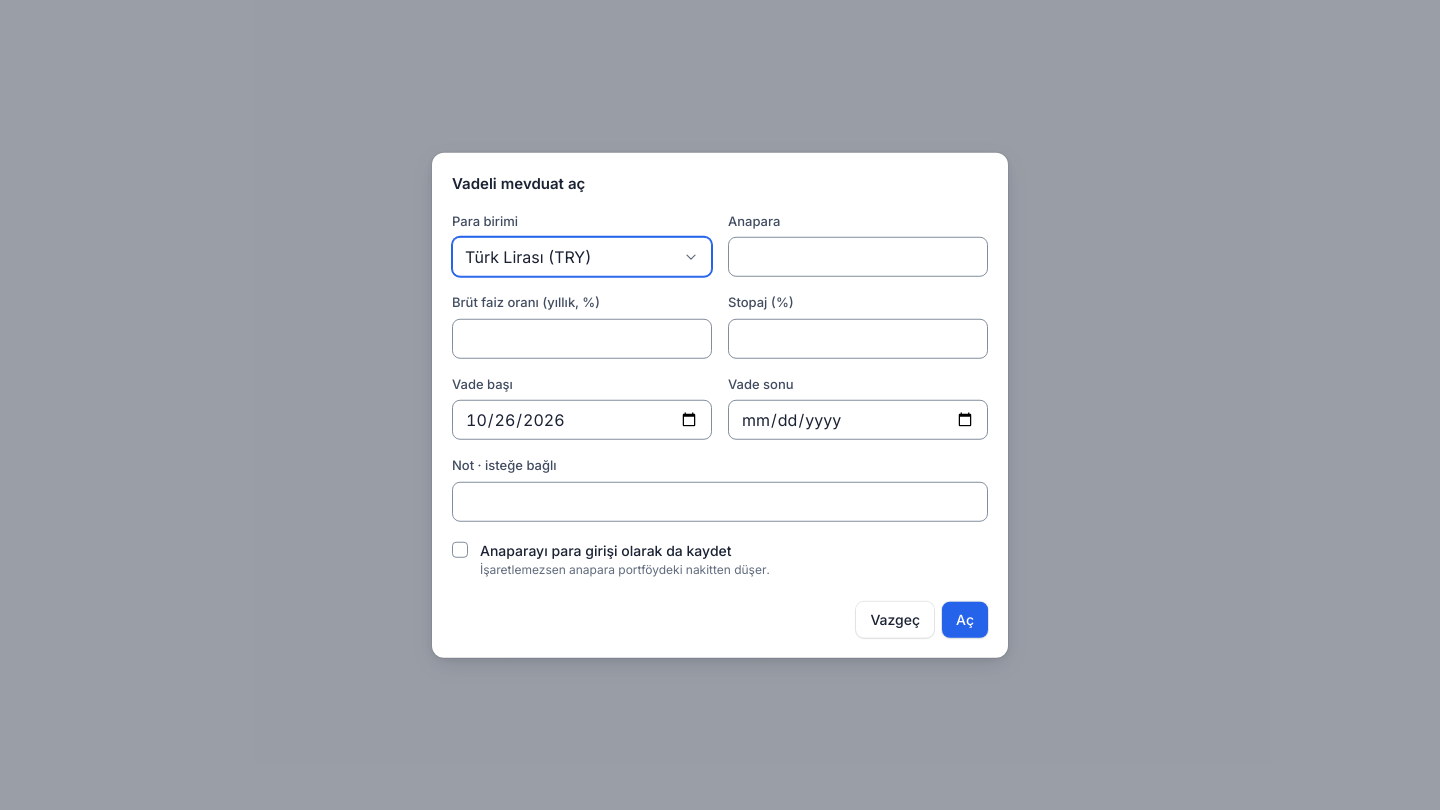
Test case: leaves the stopaj empty and refuses a form without it
This screenshot has width=1440, height=810.
Expected: the field labelled "Stopaj (%)" is empty, 728,318 -> 988,358
Type "100000" into the field labelled "Anapara".
click(858, 257); type("100000")  # box 728,237 -> 988,277
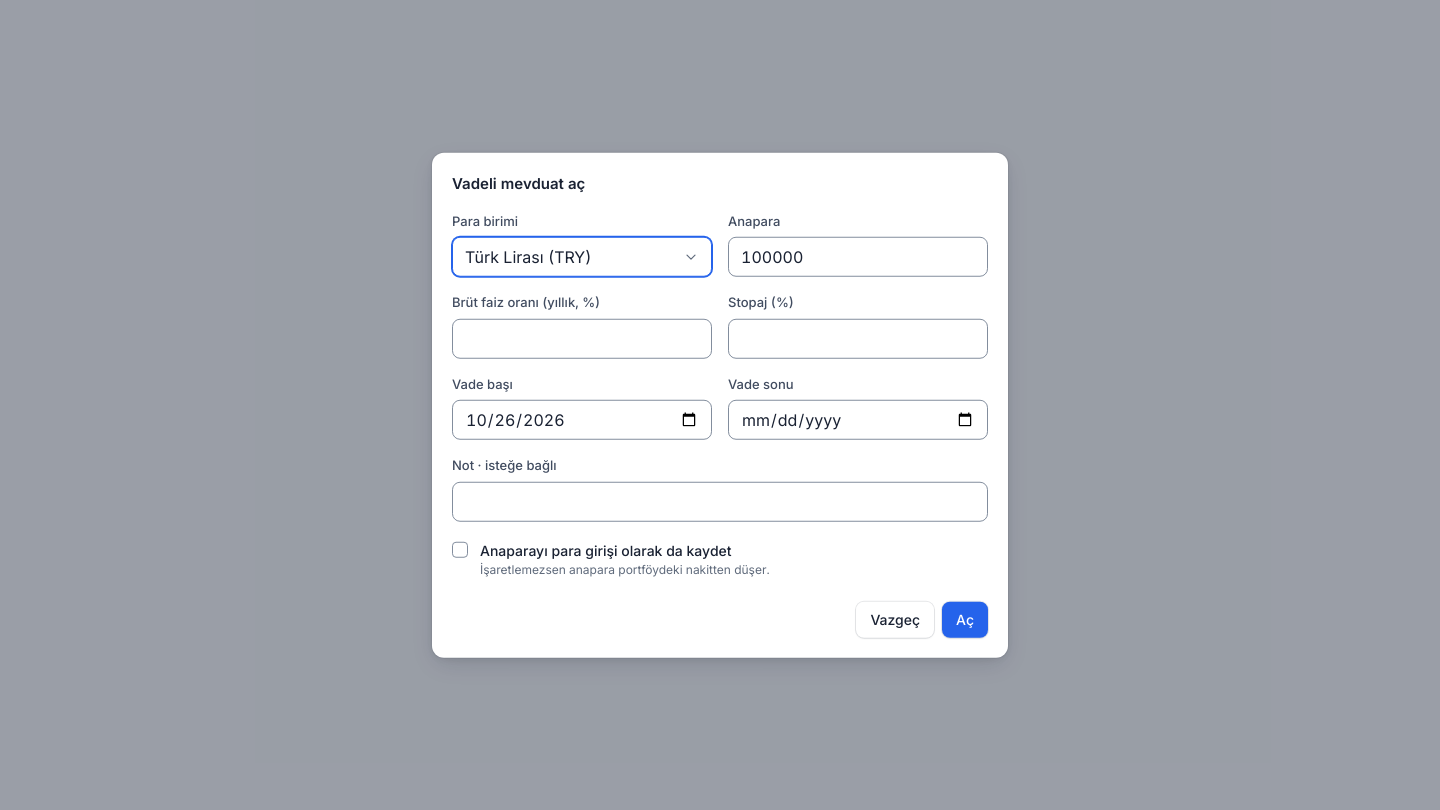
Type "45" into the field labelled "Brüt faiz oranı (yıllık, %)".
click(582, 338); type("45")  # box 452,318 -> 712,358
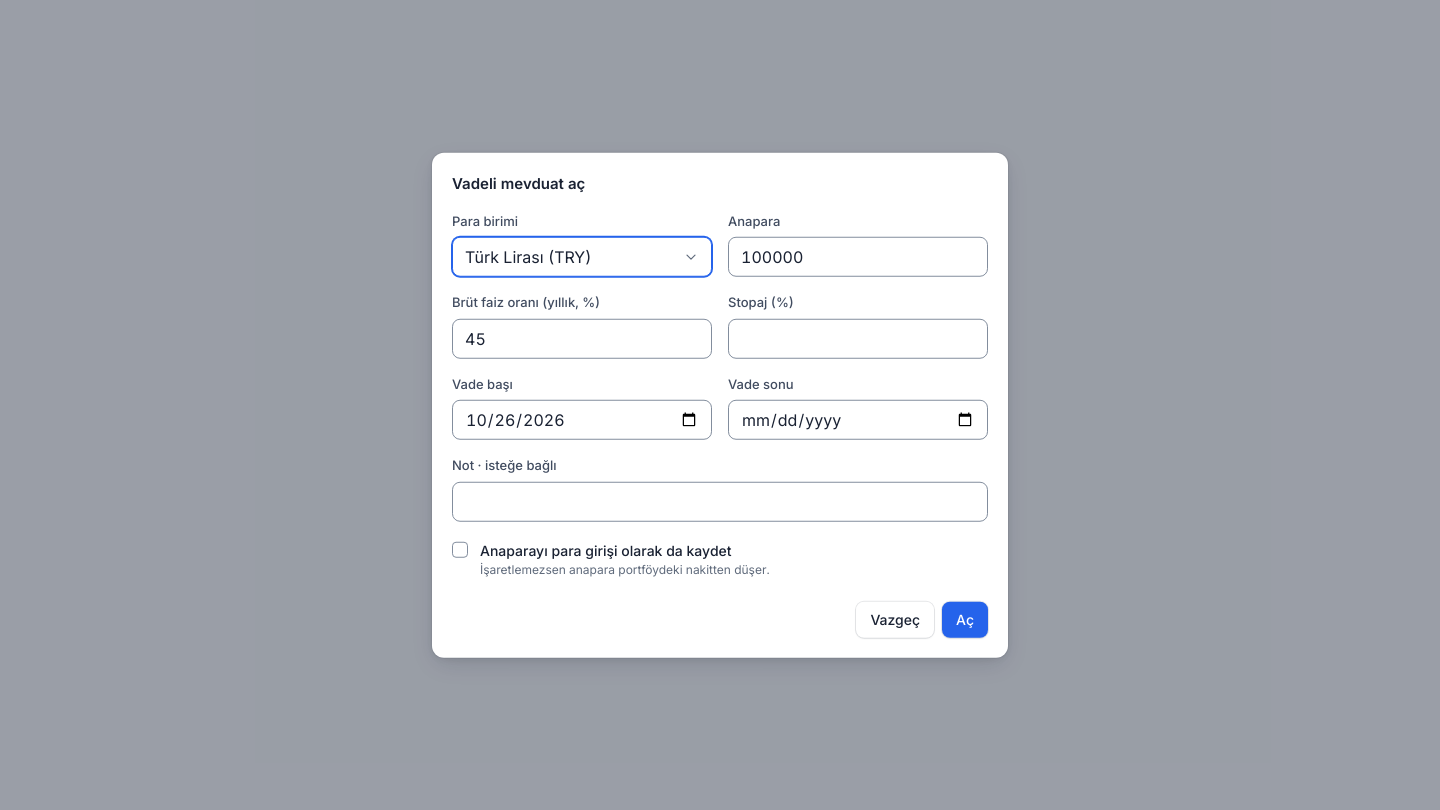
Type "2026-01-01" into the date field labelled "Vade başı".
click(582, 420); type("2026-01-01")  # box 452,400 -> 712,440
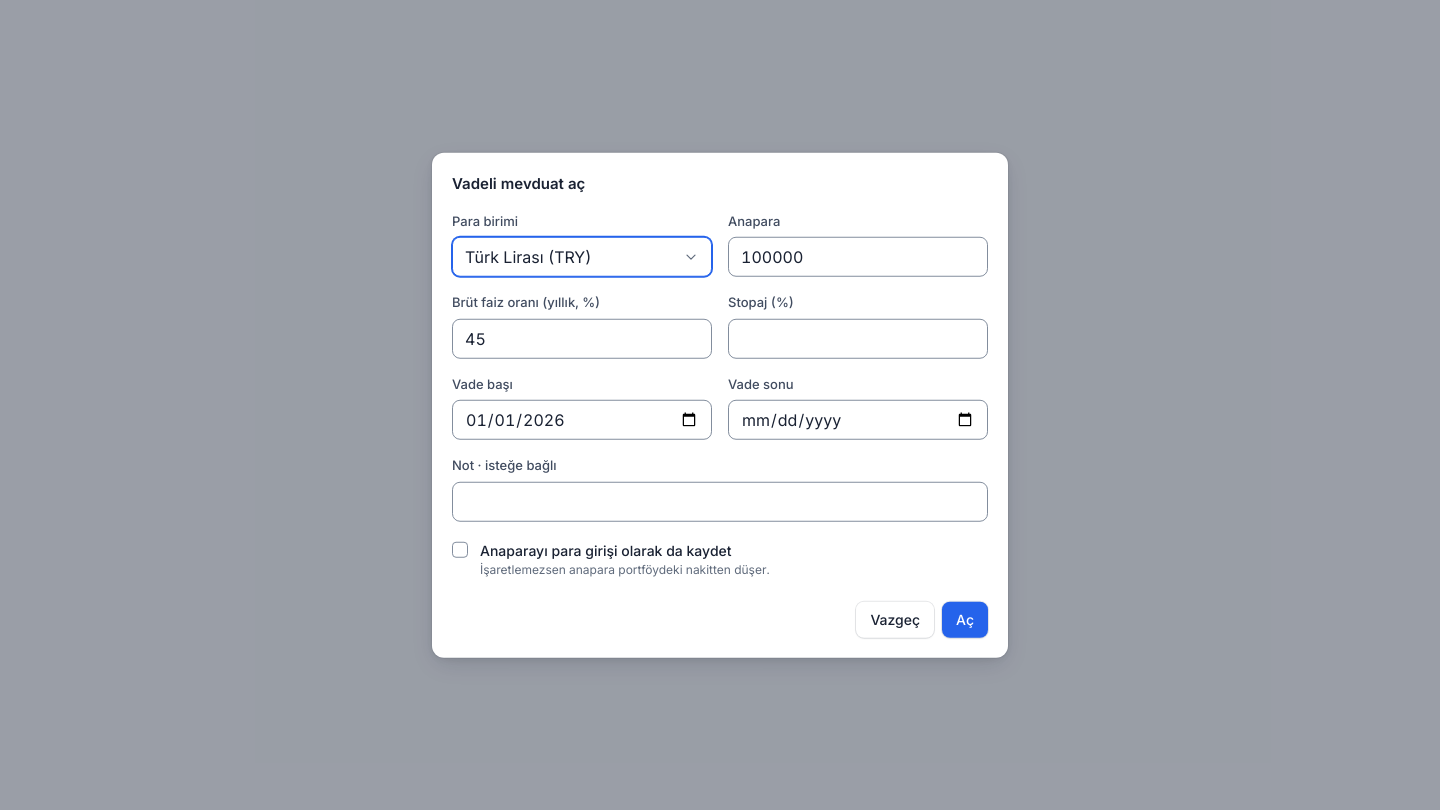
Type "2026-02-02" into the date field labelled "Vade sonu".
click(858, 420); type("2026-02-02")  # box 728,400 -> 988,440
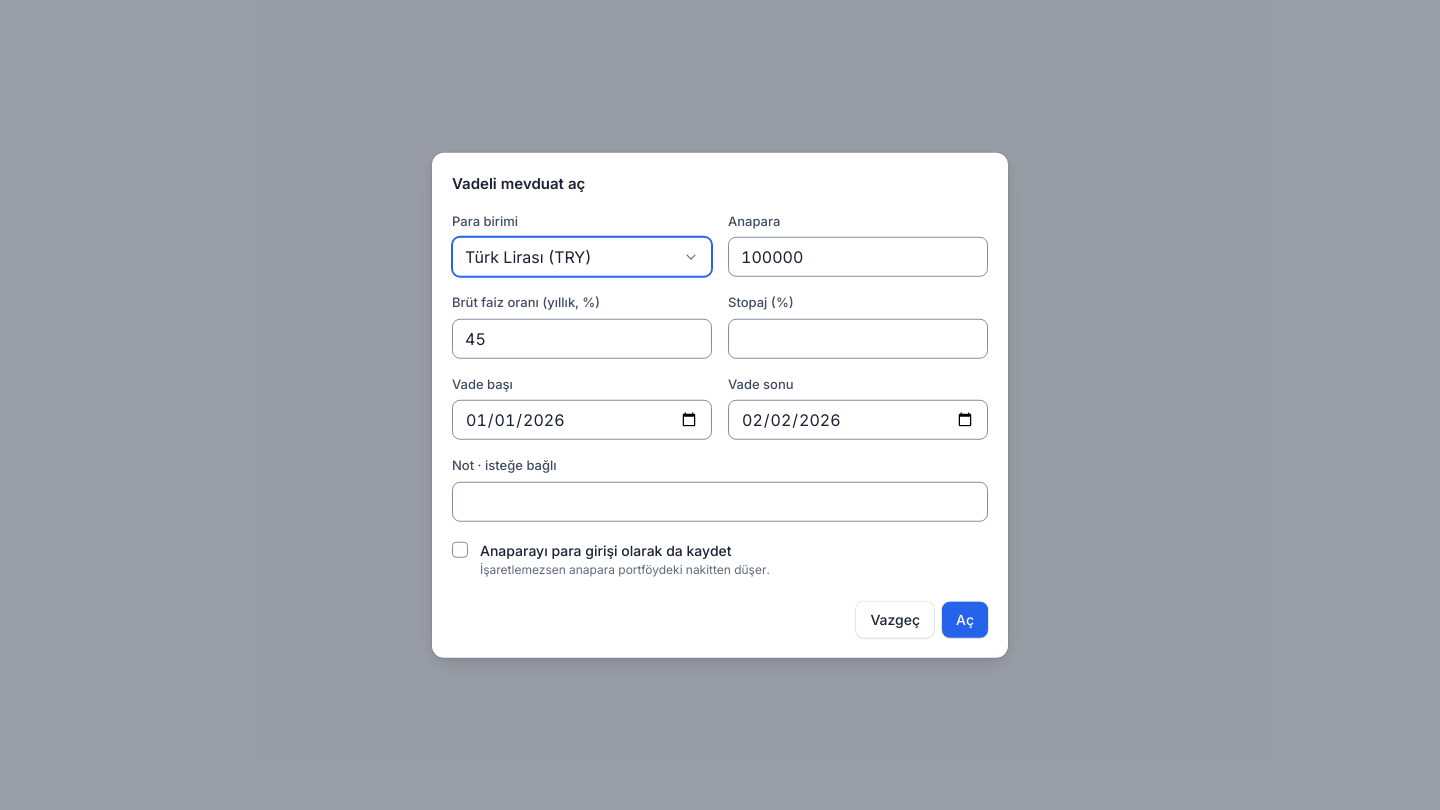
Click the button "Aç".
click(965, 619)  # box 942,601 -> 988,637
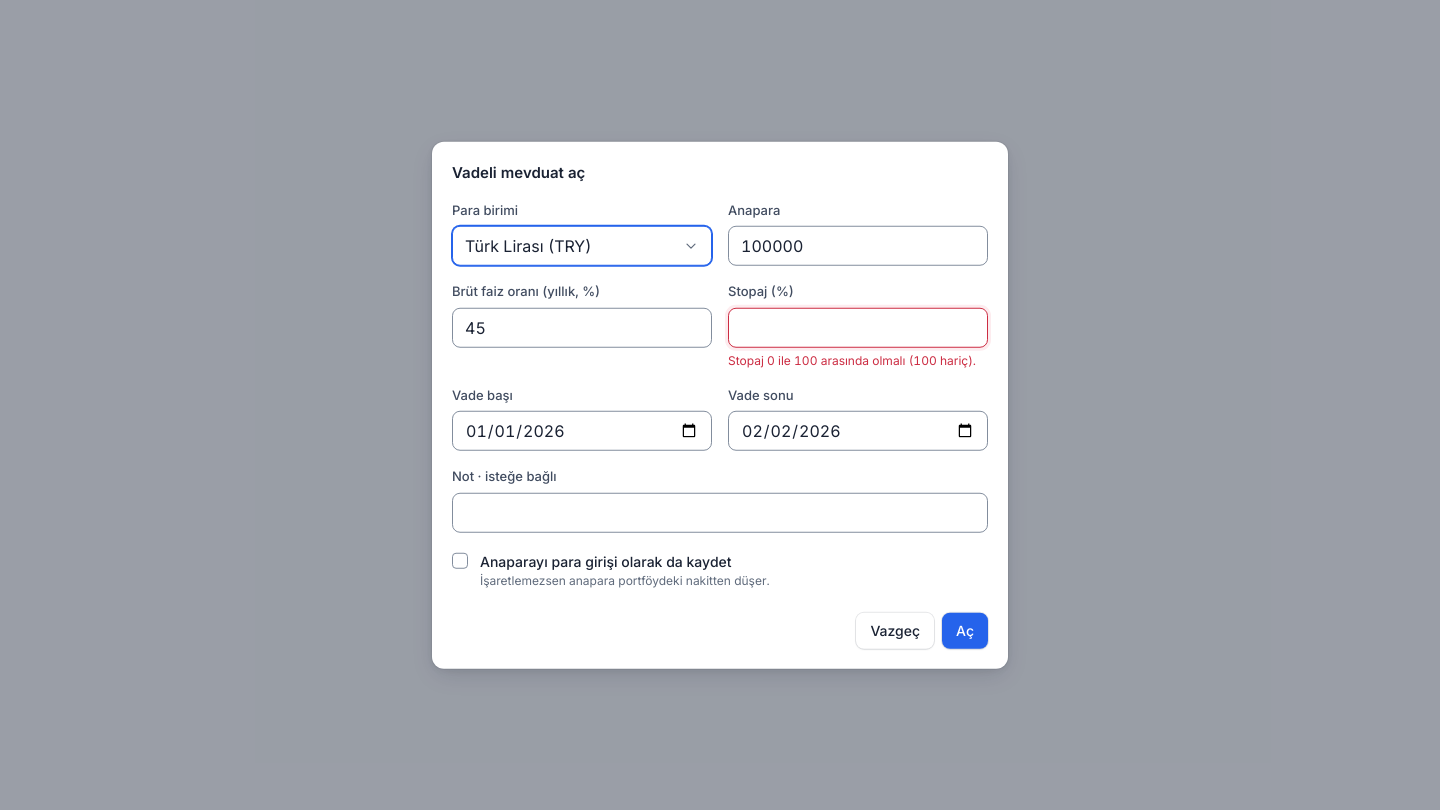
Now the message reads "Stopaj 0 ile 100 arasında olmalı (100 hariç).", box 728,352 -> 976,367
